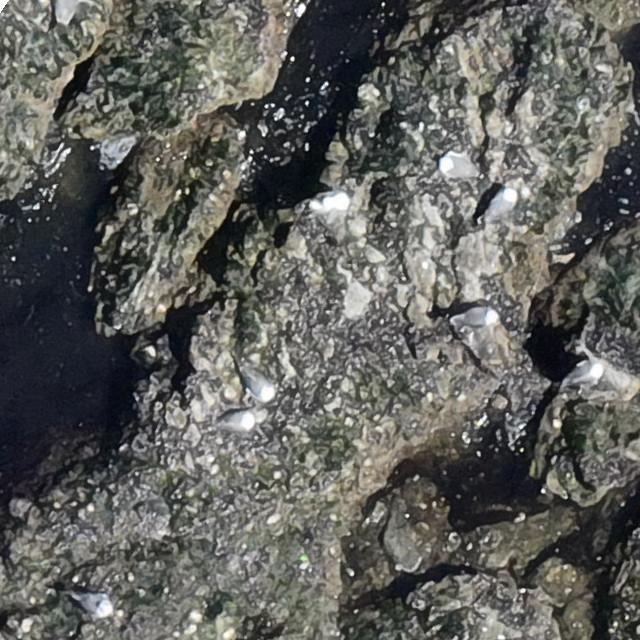umineko: (478, 188, 517, 225), (238, 360, 274, 400), (439, 154, 482, 184), (71, 588, 111, 620), (563, 362, 602, 388), (307, 192, 353, 214), (216, 411, 253, 430), (459, 308, 496, 326)
